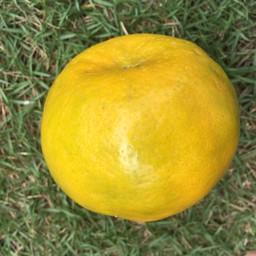Good_orange: (39, 25, 240, 225)
